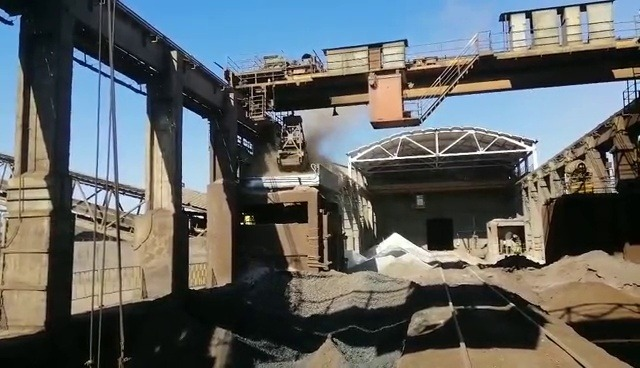dust: (251, 111, 358, 178)
grab: (275, 111, 310, 173)
